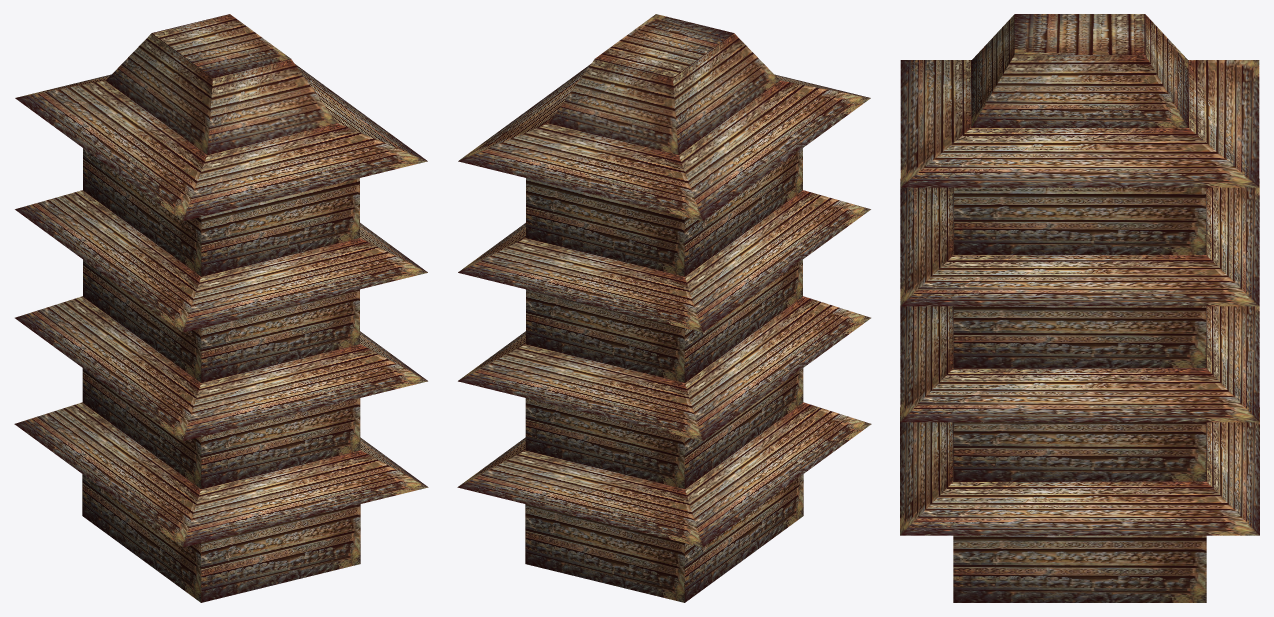
The model's file is Triple home.fbx.
3 renders of one model, left to right at view 1: azimuth 30°, elevation 25°; view 2: azimuth 150°, elevation 25°; view 3: azimuth 270°, elevation 25°, orthographic. The views are drawn at different scales.
Visible parts, largest first — view 1: Box001; view 2: Box001; view 3: Box001.
Part boxes in pixels (x1,y1,x2,y2): Box001: (14, 14, 428, 602); Box001: (457, 14, 871, 602); Box001: (900, 14, 1259, 602).
Size of the model in its own units: 62.82 by 121 by 74.61.
Materials: 1 (1 with a texture image).
